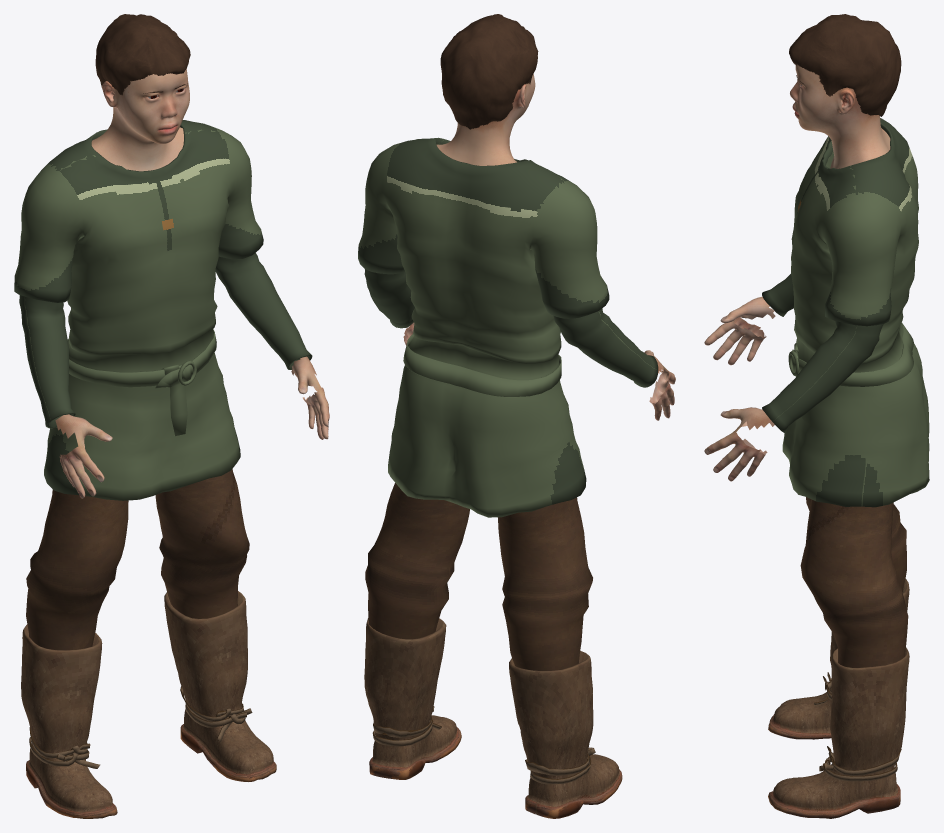
File: orin-field-tunic.glb
The picture shows the model from 3 angles, left to right: view 1: azimuth 30°, elevation 25°; view 2: azimuth 150°, elevation 25°; view 3: azimuth 270°, elevation 25°; orthographic projection.
Visible parts, largest first — view 1: orin-field-tunic runtime mesh; view 2: orin-field-tunic runtime mesh; view 3: orin-field-tunic runtime mesh.
Boxes of the visible parts, left/top/right/bottom form: orin-field-tunic runtime mesh: left=14, top=14, right=329, bottom=818; orin-field-tunic runtime mesh: left=358, top=14, right=675, bottom=818; orin-field-tunic runtime mesh: left=704, top=14, right=929, bottom=818.
Bounding box in the file's own units: 0.6785 × 1.85 × 0.5045.
7 materials, 7 textured.
